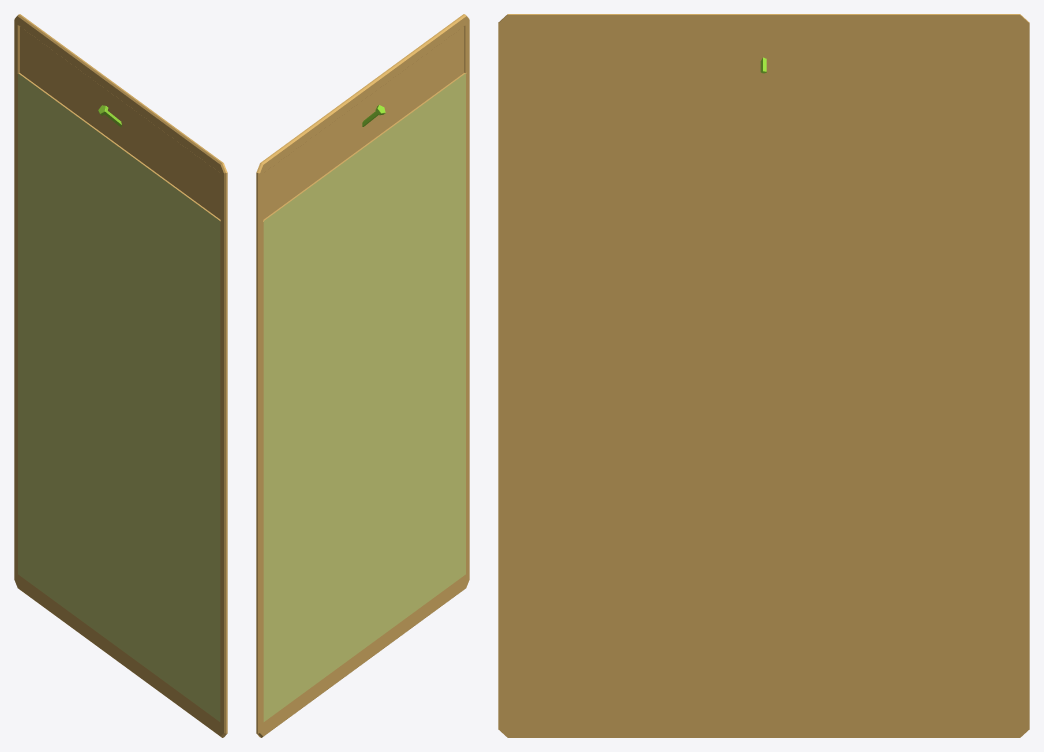
Rendered from zettelPlastik.fbx.
The picture shows the model from 3 angles, left to right: view 1: azimuth 30°, elevation 25°; view 2: azimuth 150°, elevation 25°; view 3: azimuth 270°, elevation 25°; orthographic projection. The views are drawn at different scales.
Visible parts, largest first — view 1: zettelPlastik; view 2: zettelPlastik; view 3: zettelPlastik.
Boxes of the visible parts, bbox=[...] form: zettelPlastik: bbox=[14, 14, 227, 737]; zettelPlastik: bbox=[256, 14, 469, 737]; zettelPlastik: bbox=[498, 14, 1029, 737].
Size of the model in its own units: 1.27 by 23.18 by 15.44.
